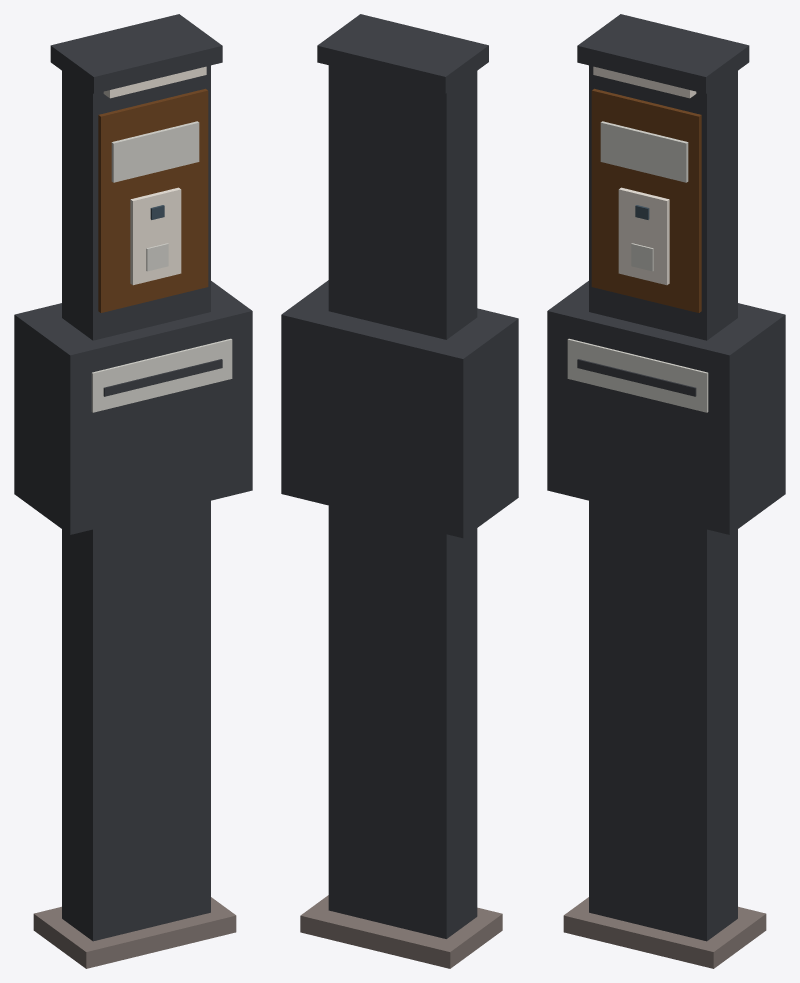
Rendered from SM_Lot_FunctionPost_Black_R_01.gltf.
The picture shows the model from 3 angles, left to right: view 1: azimuth 30°, elevation 25°; view 2: azimuth 150°, elevation 25°; view 3: azimuth 330°, elevation 25°; orthographic projection.
Parts seen in each view (by area): view 1: SM_Lot_FunctionPost_Black_R_01; view 2: SM_Lot_FunctionPost_Black_R_01; view 3: SM_Lot_FunctionPost_Black_R_01.
Boxes of the visible parts, box(x1,y1,x2,y2) form: SM_Lot_FunctionPost_Black_R_01: box(14, 14, 252, 968); SM_Lot_FunctionPost_Black_R_01: box(281, 14, 518, 968); SM_Lot_FunctionPost_Black_R_01: box(547, 14, 785, 968).
Bounding box in the file's own units: 0.34 × 1.58 × 0.187.
Materials: 1 (1 with a texture image).
